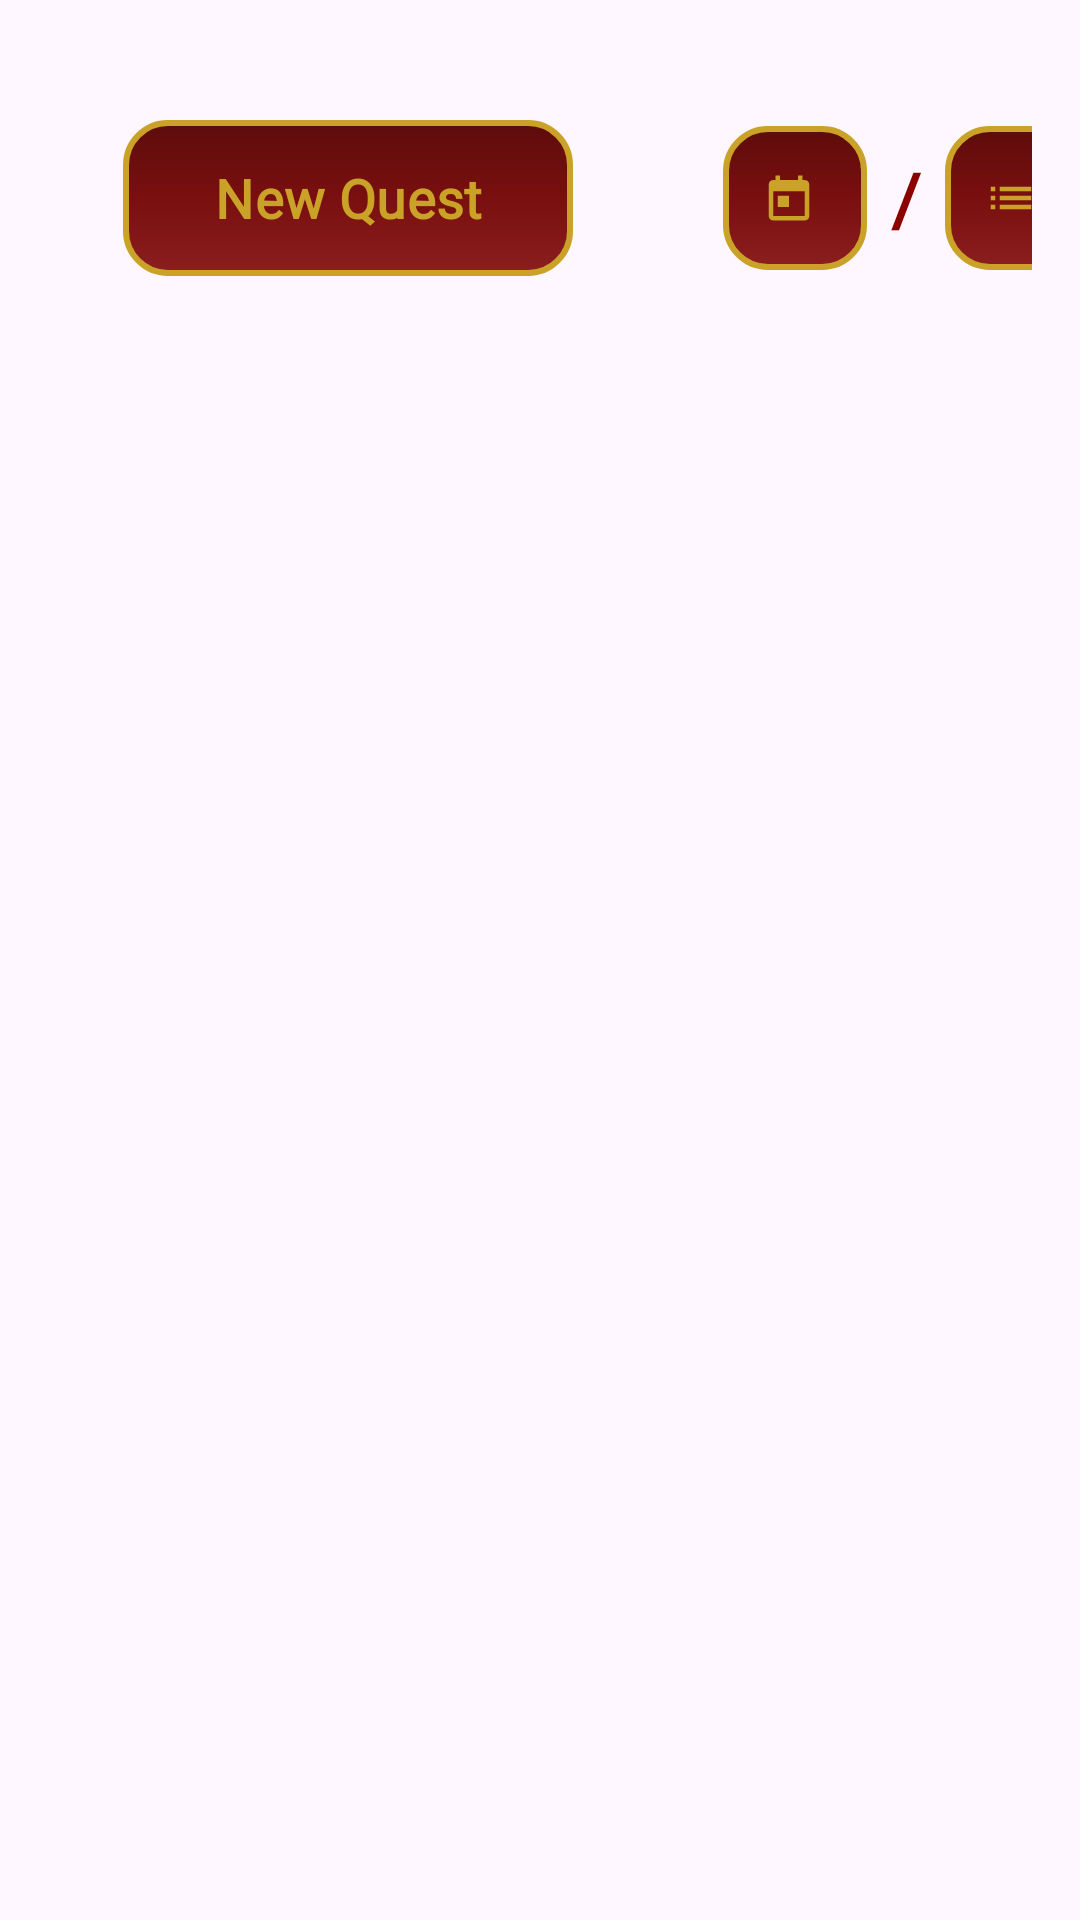

Icon click points for this 1080px x 1920px phone screenshot, format point (x, y):
Calendar view: point (795, 198)
